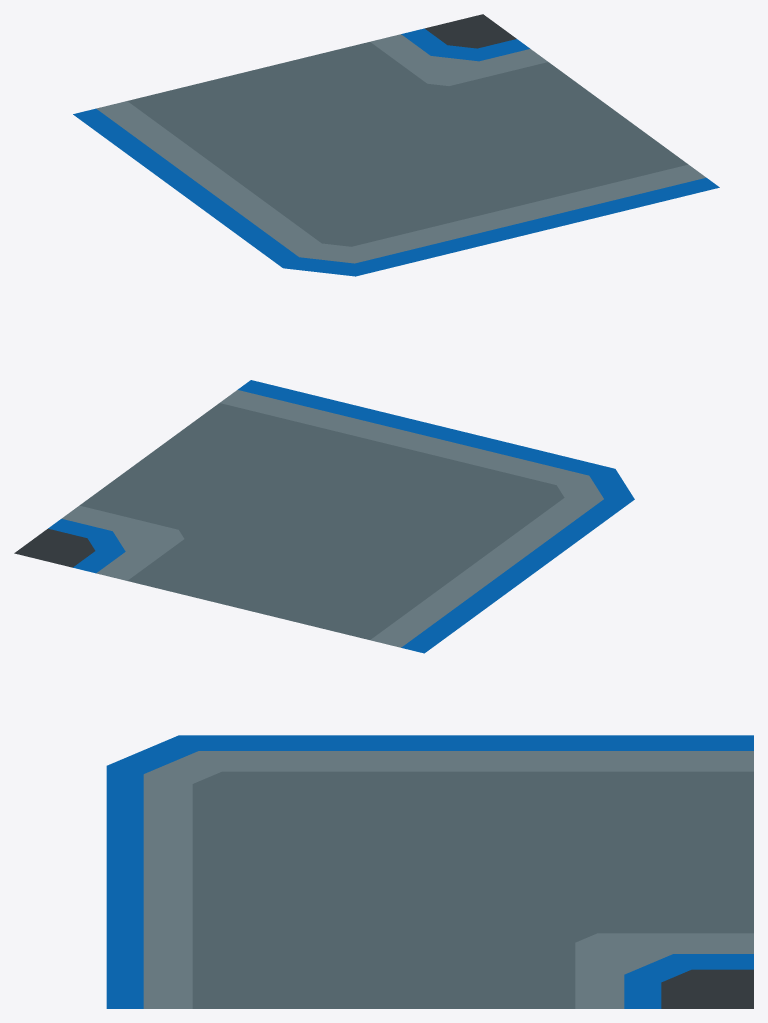
Rendered from Ceiling_type_C_048.fbx.
3 renders of one model, top to bottom at view 1: azimuth 30°, elevation 25°; view 2: azimuth 150°, elevation 25°; view 3: azimuth 270°, elevation 25°, orthographic. The views are drawn at different scales.
Parts seen in each view (by area): view 1: Ceiling_type_C_048; view 2: Ceiling_type_C_048; view 3: Ceiling_type_C_048.
Boxes of the visible parts, x1,y1,x2,y2 form: Ceiling_type_C_048: (73, 14, 719, 276); Ceiling_type_C_048: (14, 380, 634, 653); Ceiling_type_C_048: (106, 735, 753, 1008).
Bounding box in the file's own units: 400 × 400 × 3.5.
